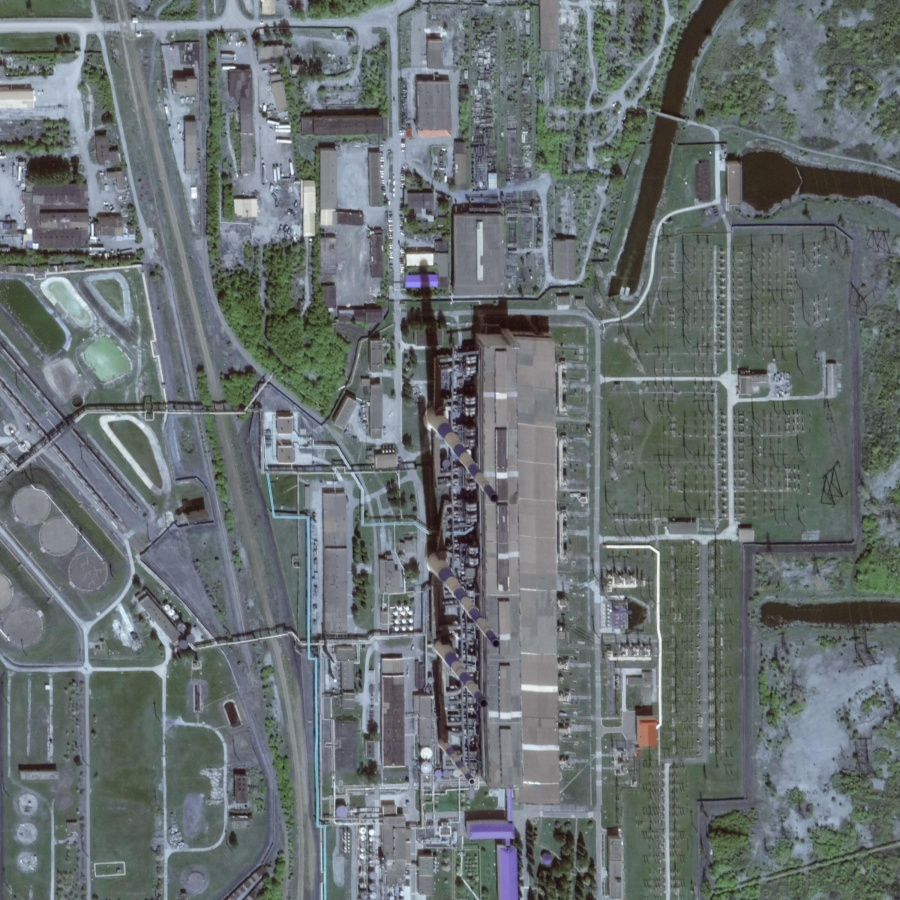PowerPlant: (384, 325, 543, 794)
